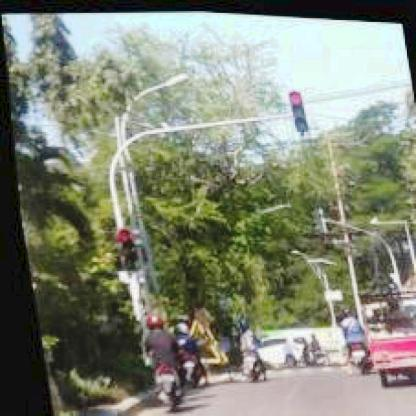Traffic Light -Red-: (286, 86, 308, 127), (111, 228, 131, 272)
